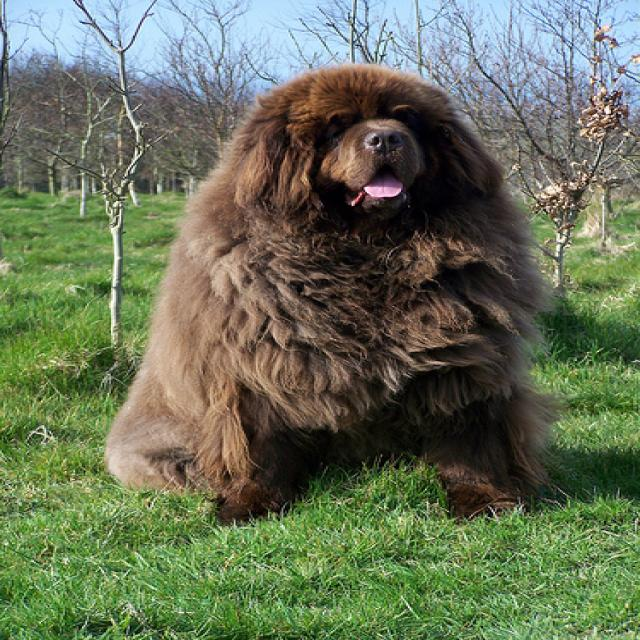dog: (230, 62, 500, 218)
